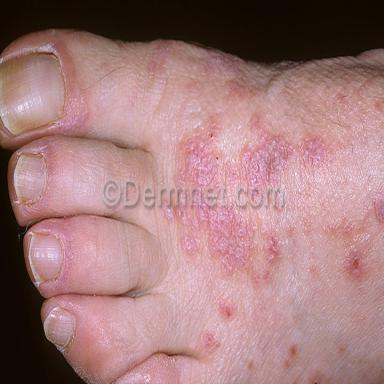lichen: (177, 115, 293, 187), (163, 205, 253, 273), (59, 90, 89, 136), (301, 138, 328, 167), (374, 198, 384, 223)
